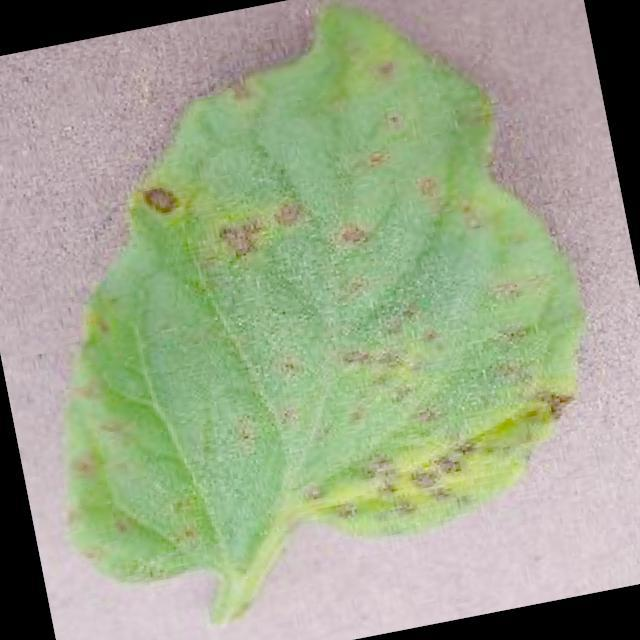Tomato Septoria spot leaf: (0, 0, 624, 600)
